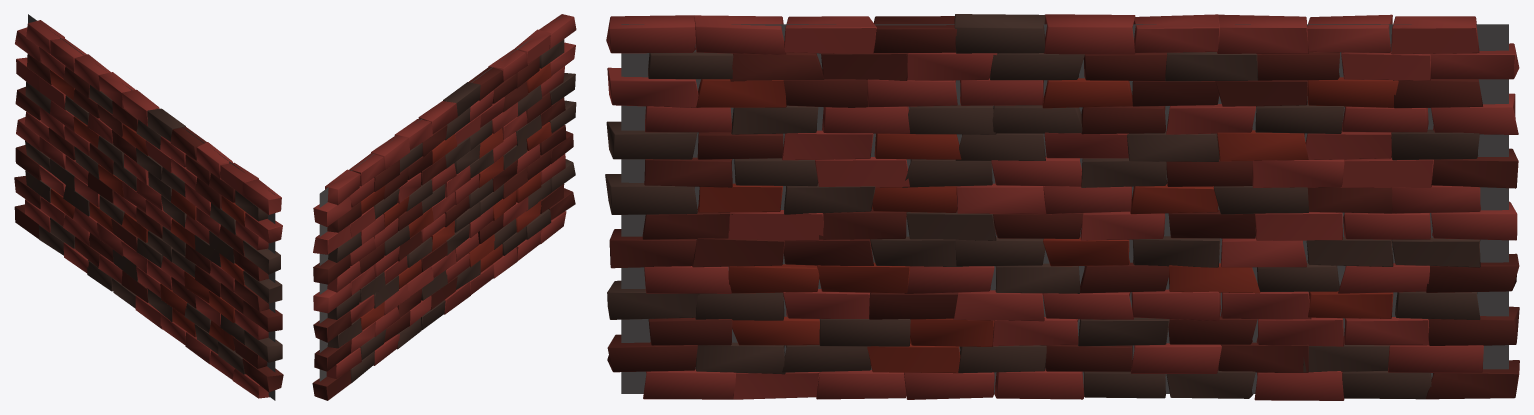
Rendered from BrickWall.dae.
The picture shows the model from 3 angles, left to right: view 1: azimuth 30°, elevation 25°; view 2: azimuth 150°, elevation 25°; view 3: azimuth 270°, elevation 25°; orthographic projection. The views are drawn at different scales.
Visible parts, largest first — view 1: Cube, Plane; view 2: Cube, Plane; view 3: Cube, Plane.
Part boxes in pixels (bbox=[...]): Cube: bbox=[14, 20, 283, 398]; Plane: bbox=[28, 14, 275, 400]; Cube: bbox=[312, 14, 576, 400]; Plane: bbox=[319, 16, 561, 381]; Cube: bbox=[605, 14, 1519, 400]; Plane: bbox=[621, 24, 1508, 393].
Bounding box in the file's own units: 2.27 × 62.45 × 28.26.
